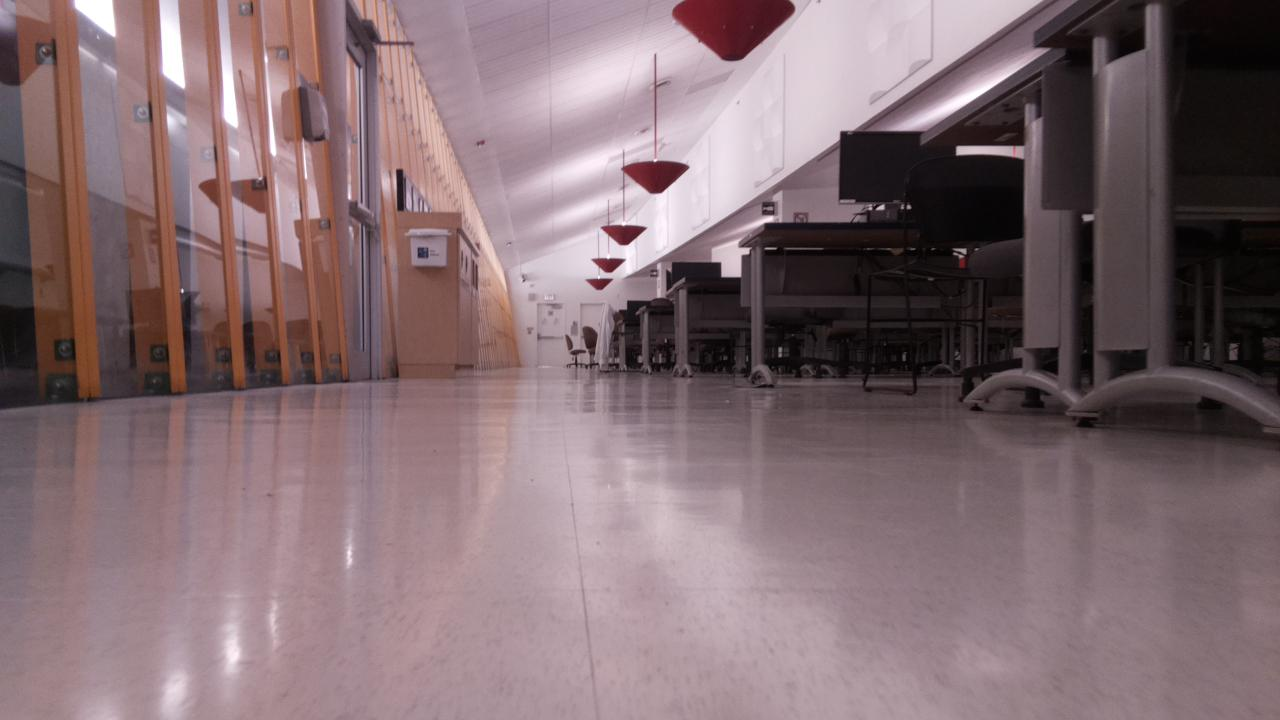door: (581, 304, 607, 367), (538, 304, 564, 367)
sign: (417, 246, 440, 258), (762, 202, 774, 214), (793, 212, 807, 222), (650, 269, 657, 276), (544, 294, 552, 299)
tvmonitor: (839, 131, 953, 204), (671, 262, 720, 285)
